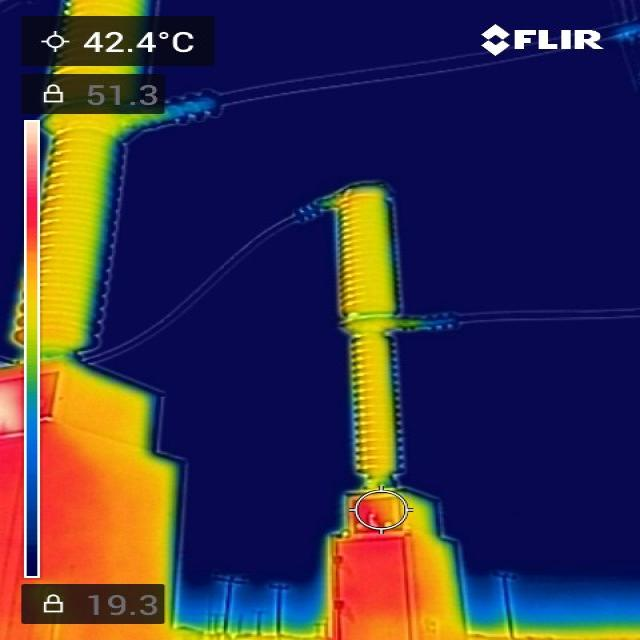Zona_Critica: (354, 543, 401, 607)
